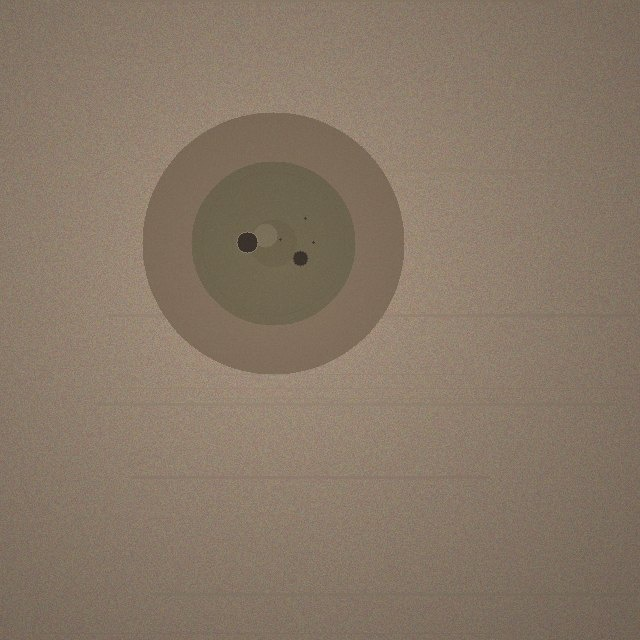shrinkage: (142, 112, 404, 374)
